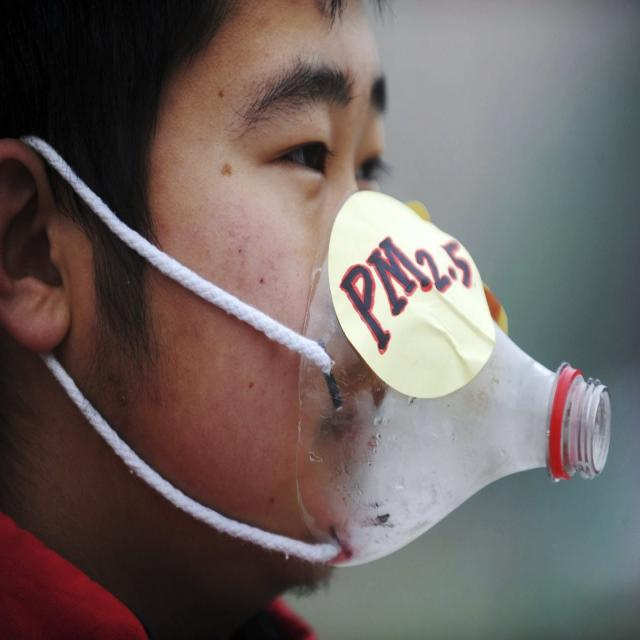nomask: (145, 1, 392, 568)
